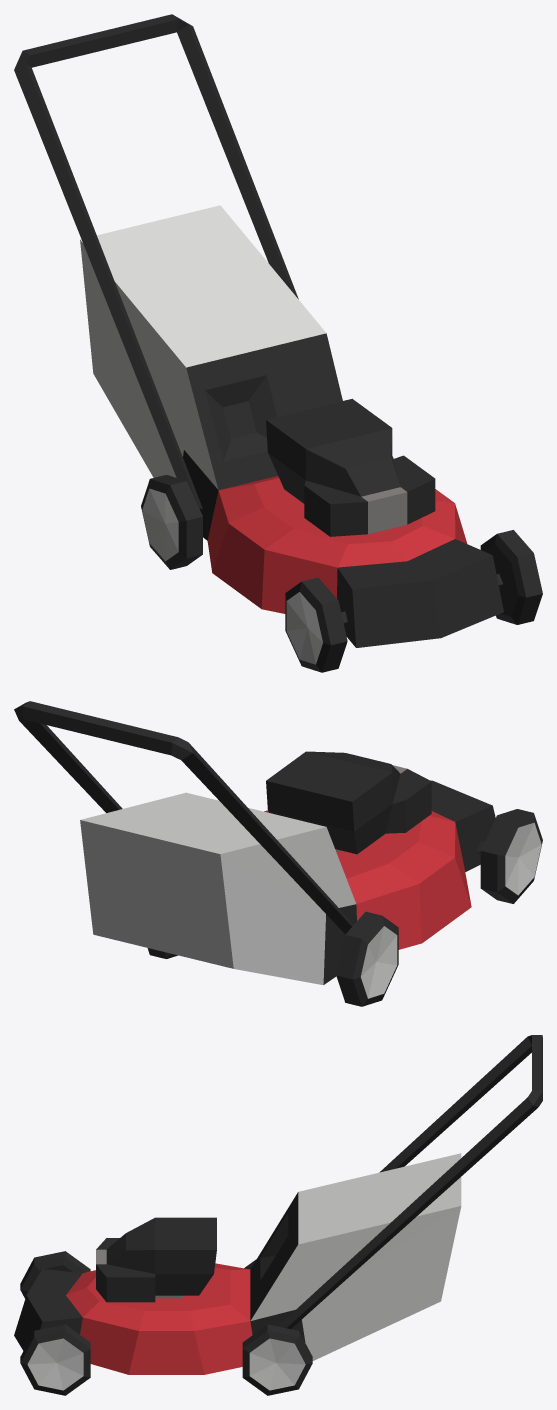
Rendered from vehicles-lawn-mower.glb.
3 views of the same model, one above another, from view 1: azimuth 30°, elevation 25°; view 2: azimuth 150°, elevation 25°; view 3: azimuth 270°, elevation 25° (orthographic). The views are drawn at different scales.
Parts seen in each view (by area): view 1: lawn-mower; view 2: lawn-mower; view 3: lawn-mower.
Part boxes in pixels (<box>): lawn-mower: <box>14,14,542,672</box>; lawn-mower: <box>14,701,542,1006</box>; lawn-mower: <box>14,1035,542,1395</box>.
Bounding box in the file's own units: 0.6902 × 1.15 × 1.88.
